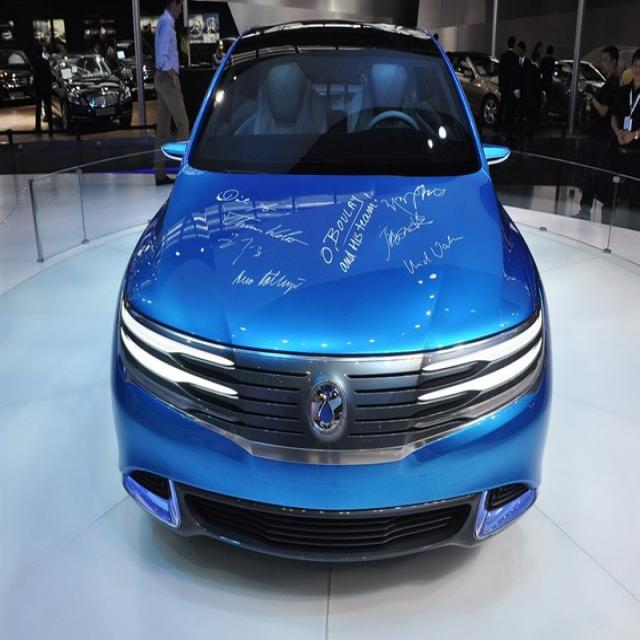front_bumper: (110, 378, 555, 570)
front_glass: (188, 46, 478, 180)
front_left_side_light: (414, 306, 545, 421)
front_left_side_mirror: (482, 142, 512, 176)
front_right_side_light: (118, 289, 240, 425)
front_right_side_mirror: (156, 131, 190, 170)
